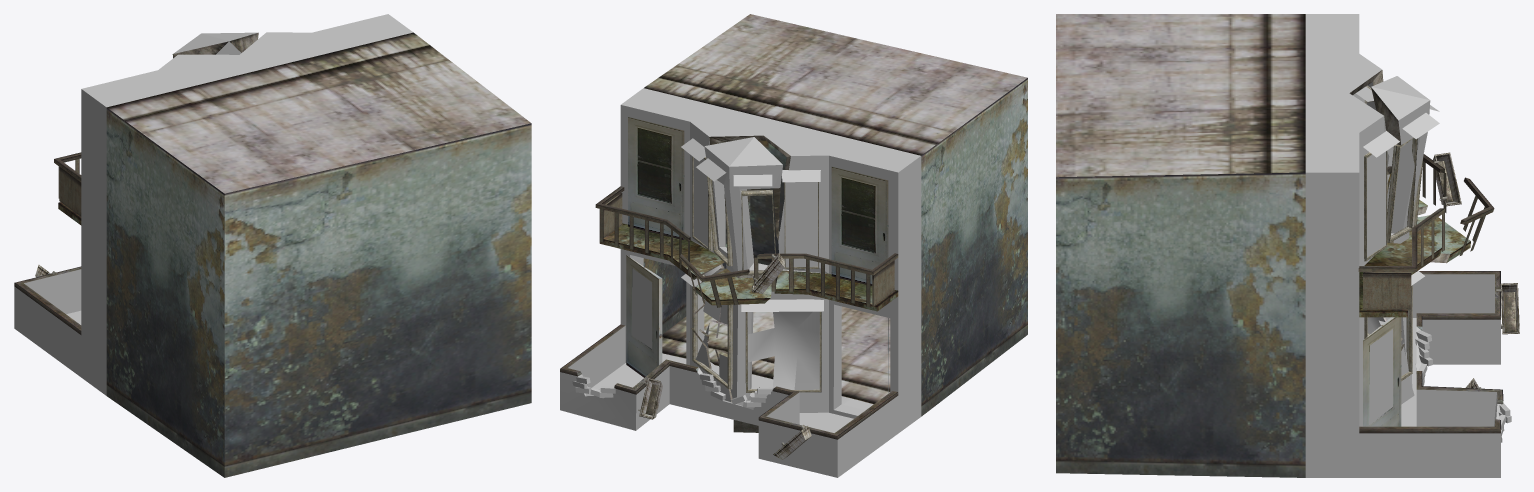
The model's file is Store_front_12_C.fbx.
The picture shows the model from 3 angles, left to right: view 1: azimuth 30°, elevation 25°; view 2: azimuth 150°, elevation 25°; view 3: azimuth 270°, elevation 25°; orthographic projection. The views are drawn at different scales.
Visible parts, largest first — view 1: Store_front_12_C; view 2: Store_front_12_C; view 3: Store_front_12_C.
Part boxes in pixels (box(x1,y1,x2,y2)): Store_front_12_C: box(14, 14, 531, 477); Store_front_12_C: box(560, 14, 1027, 477); Store_front_12_C: box(1056, 14, 1519, 477).
Bounding box in the file's own units: 701 × 680 × 867.
